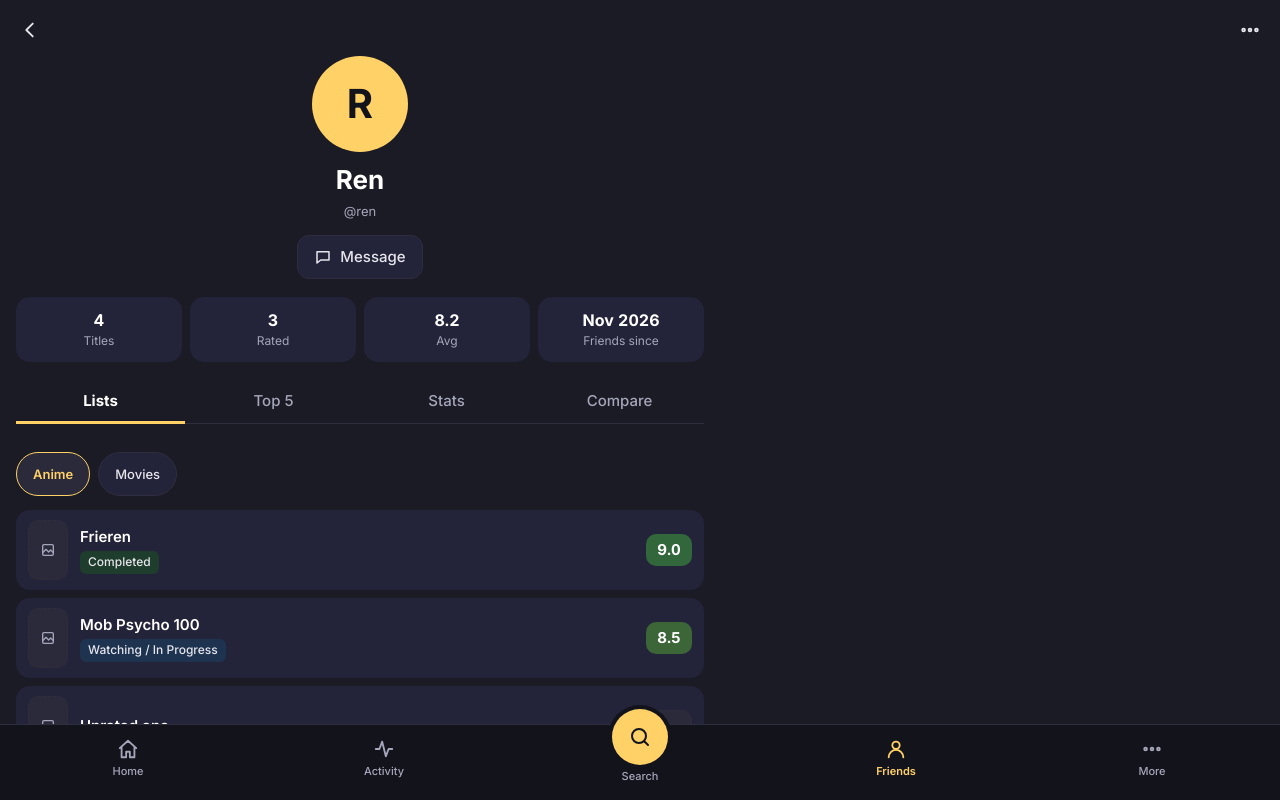
Test: Friend profile › chips are the categories they have; choosing one switches the rows
expect the link "Frieren Completed 9.0" is shown: met, box [16,510,704,590]
Click the button "Movies" at (138, 474), box [98,452,177,496]
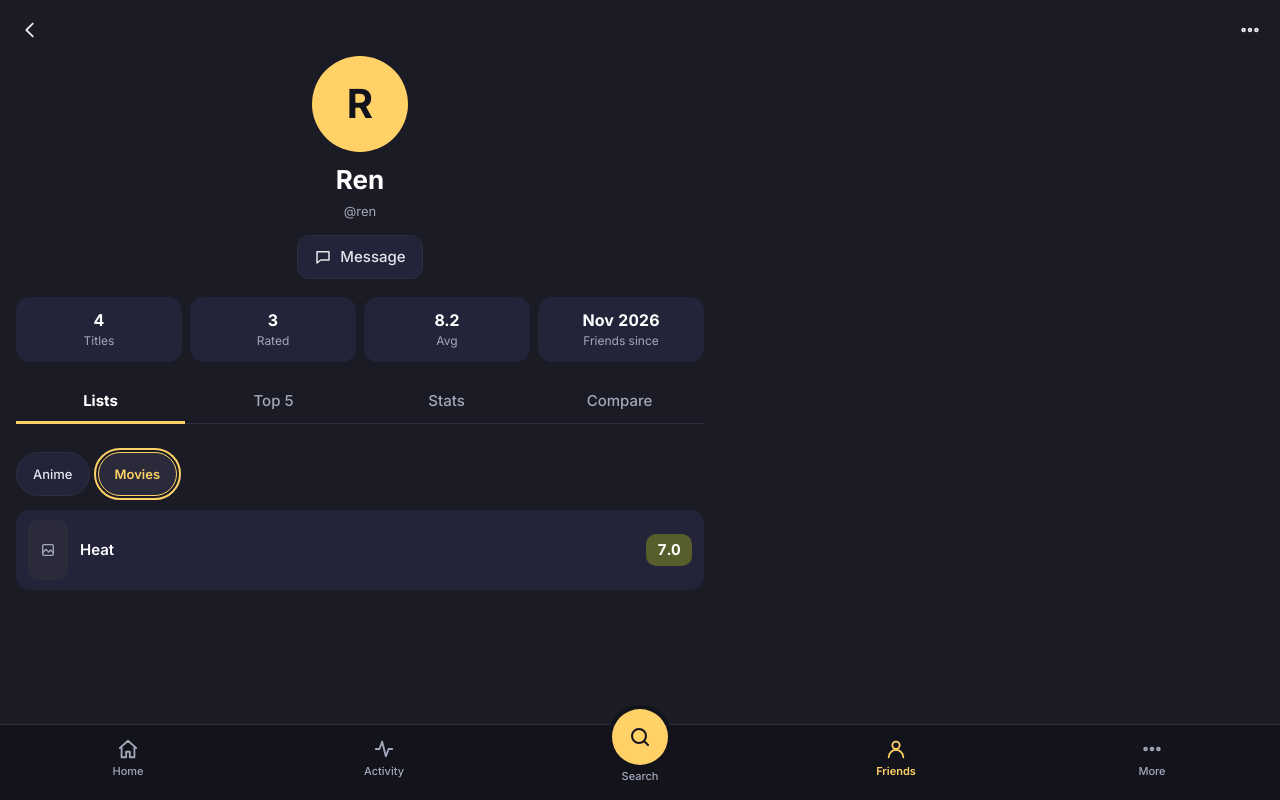
expect the link with aria-label "Heat, rated 7.0" is shown: met, box [16,510,704,590]
expect the link "Frieren" is gone: met
